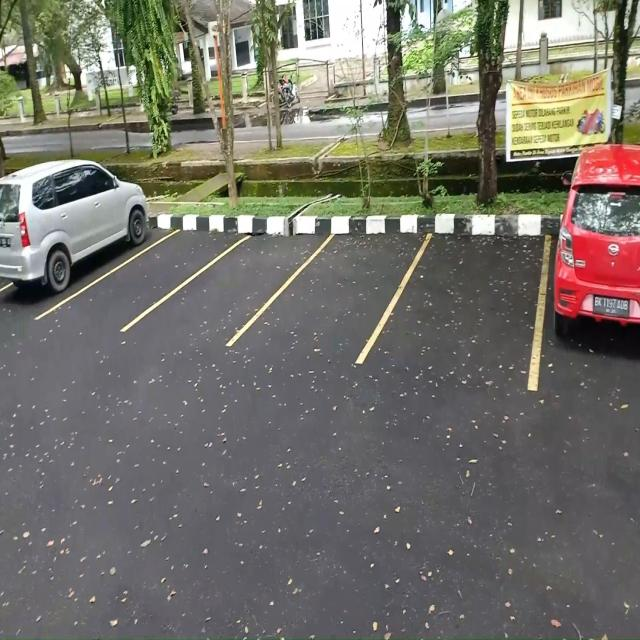empty: (382, 220, 546, 386), (282, 214, 405, 364), (201, 221, 297, 343), (105, 217, 204, 330)
occupied: (540, 190, 640, 378), (0, 180, 110, 316)
